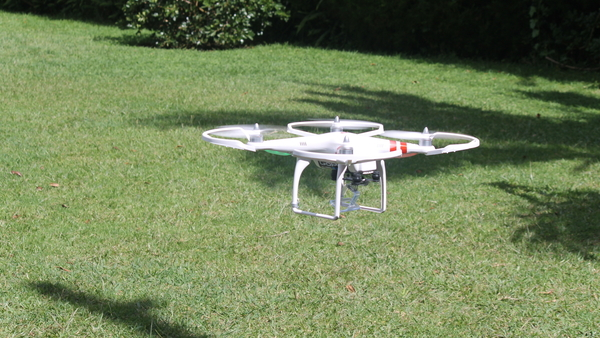drone: (200, 113, 482, 222)
